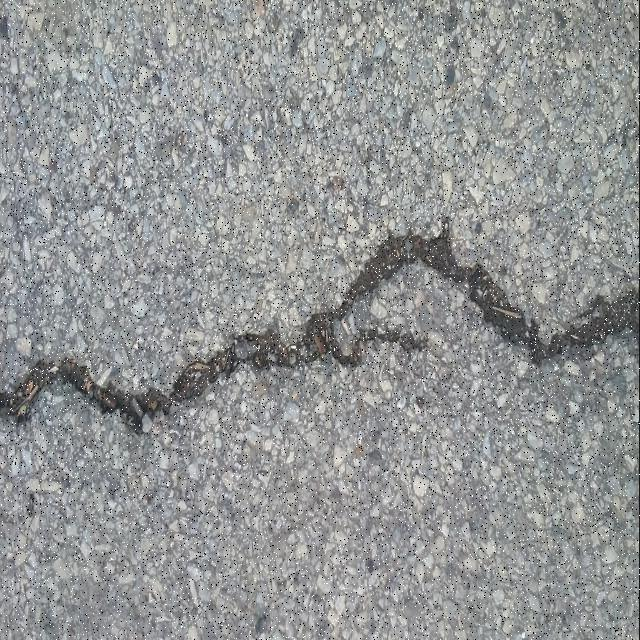Crack: (0, 214, 640, 427)
